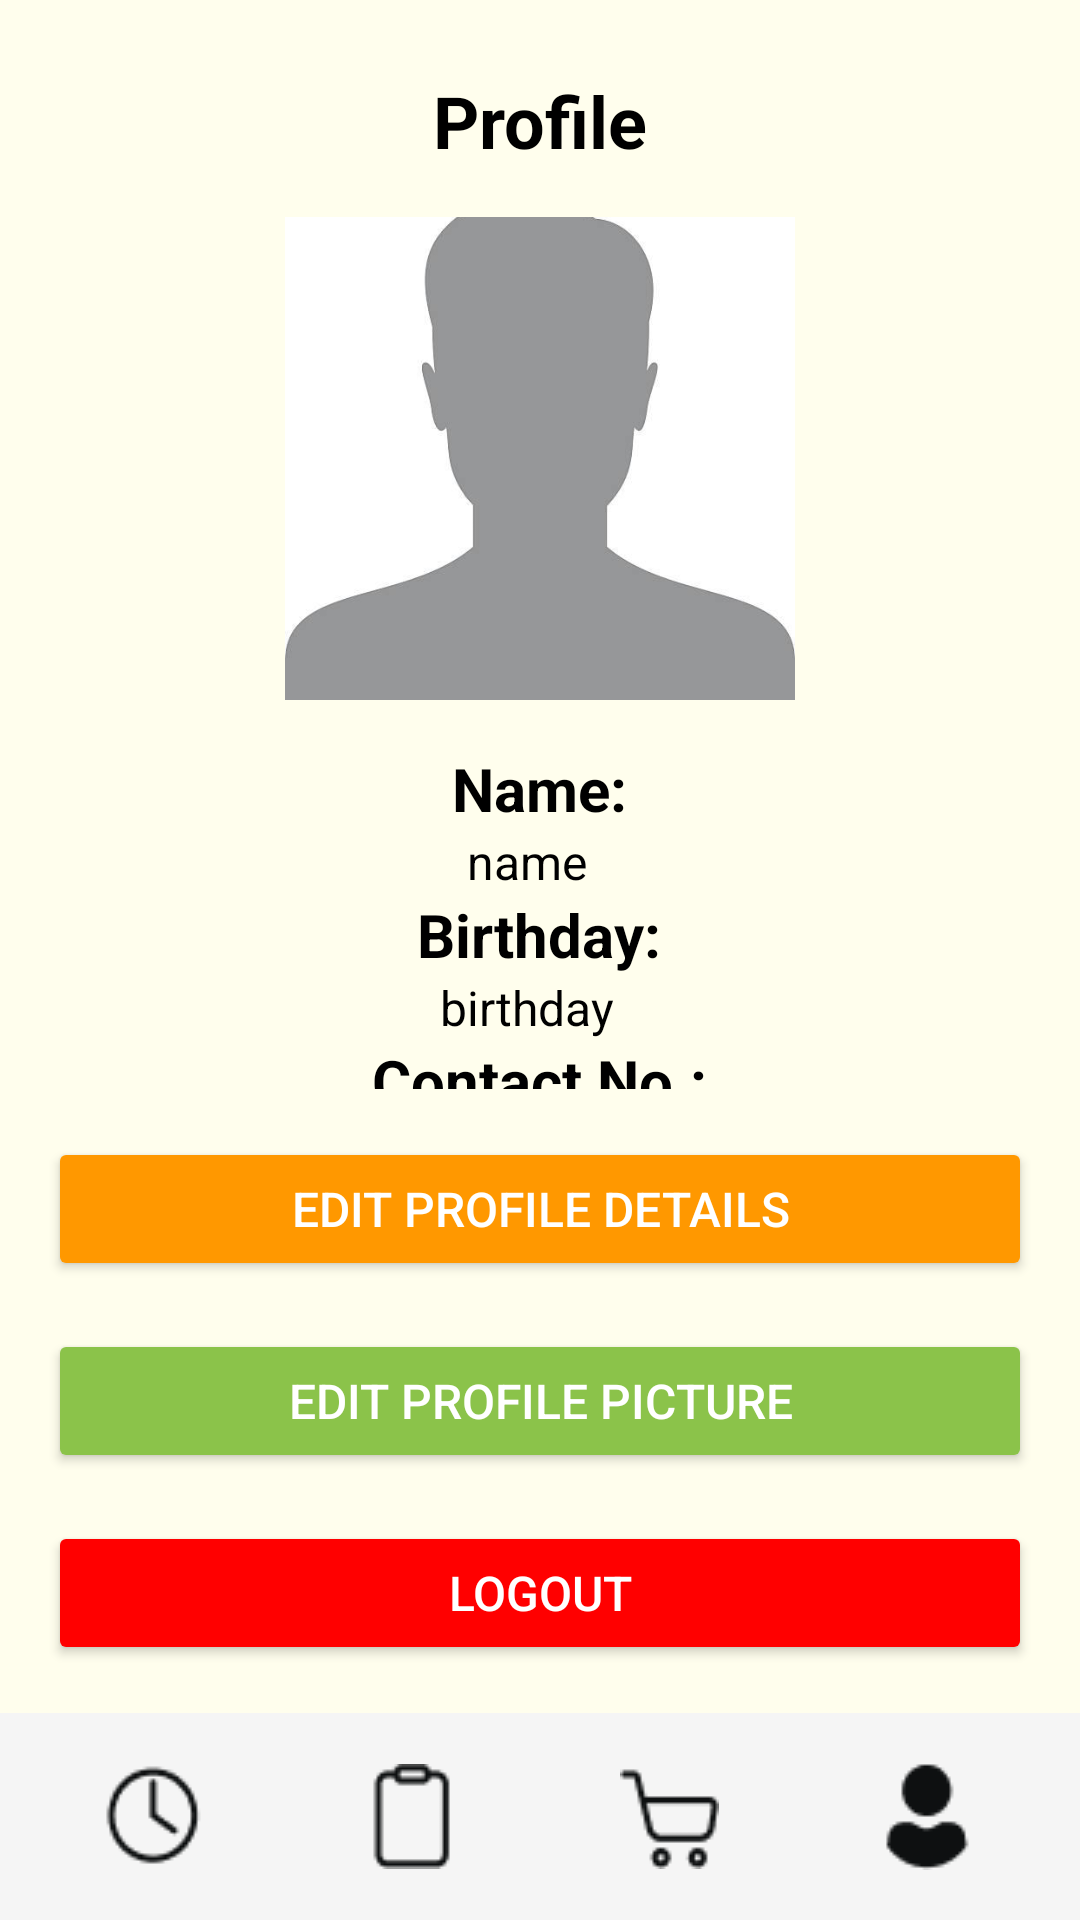

Point at icon controls on the screen. Image size 1080px×1920px, points as point (x, y).
Checkout: point (669, 1819)
History of Records: point (152, 1815)
List: point (411, 1816)
Profile: point (927, 1817)
